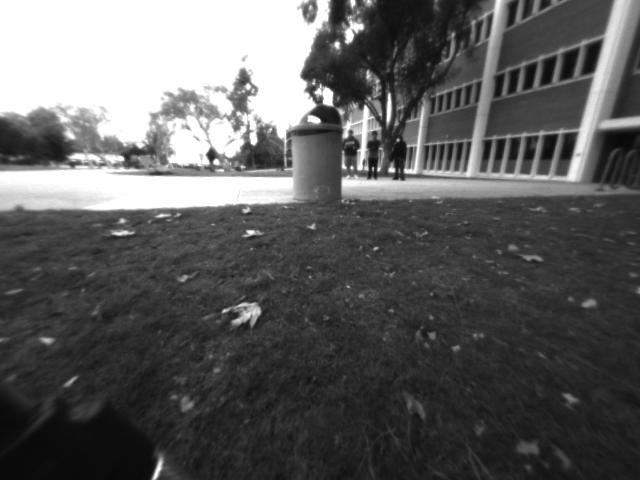trashcan: (286, 102, 346, 208)
